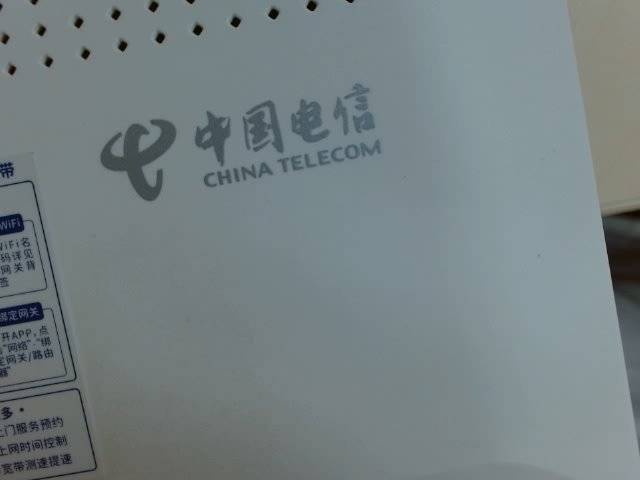AB_ChinaTelecom: (68, 77, 403, 209)
